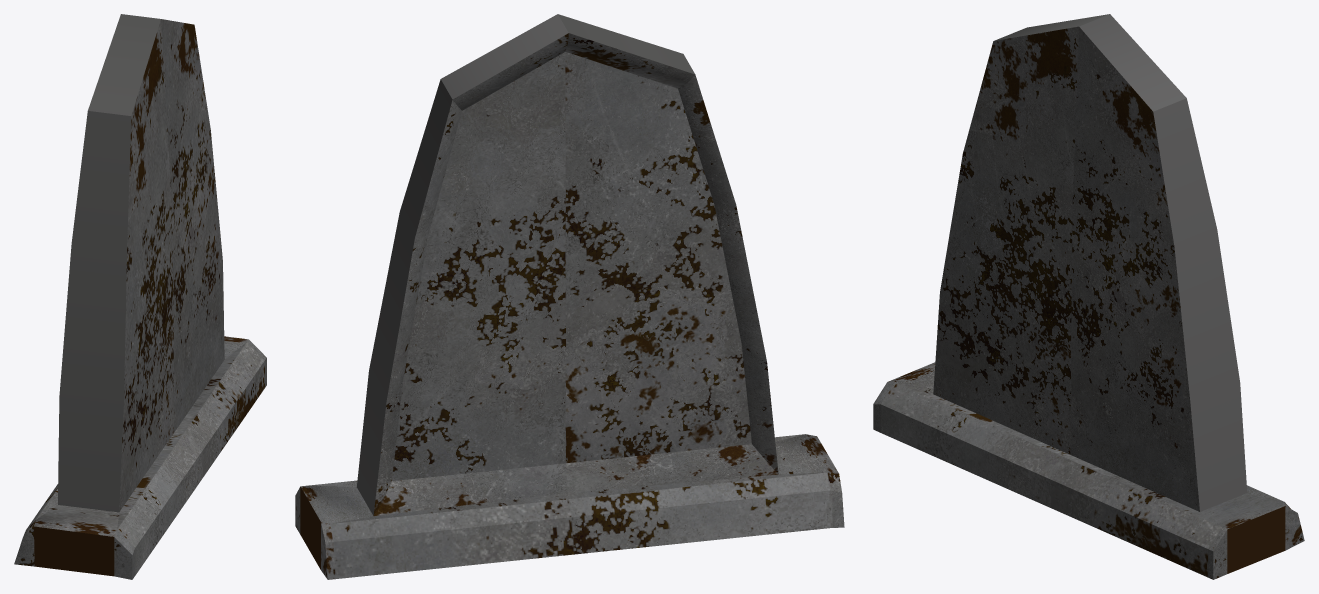
The model's file is Tombstone_Textured.fbx.
3 views of the same model, side by side, from view 1: azimuth 30°, elevation 25°; view 2: azimuth 150°, elevation 25°; view 3: azimuth 270°, elevation 25° (orthographic). The views are drawn at different scales.
Visible parts, largest first — view 1: pCube1; view 2: pCube1; view 3: pCube1.
Part boxes in pixels (left/top/right/bottom): pCube1: left=14, top=14, right=266, bottom=579; pCube1: left=295, top=14, right=844, bottom=579; pCube1: left=873, top=14, right=1304, bottom=579.
Size of the model in its own units: 73.92 by 86.11 by 71.99.
